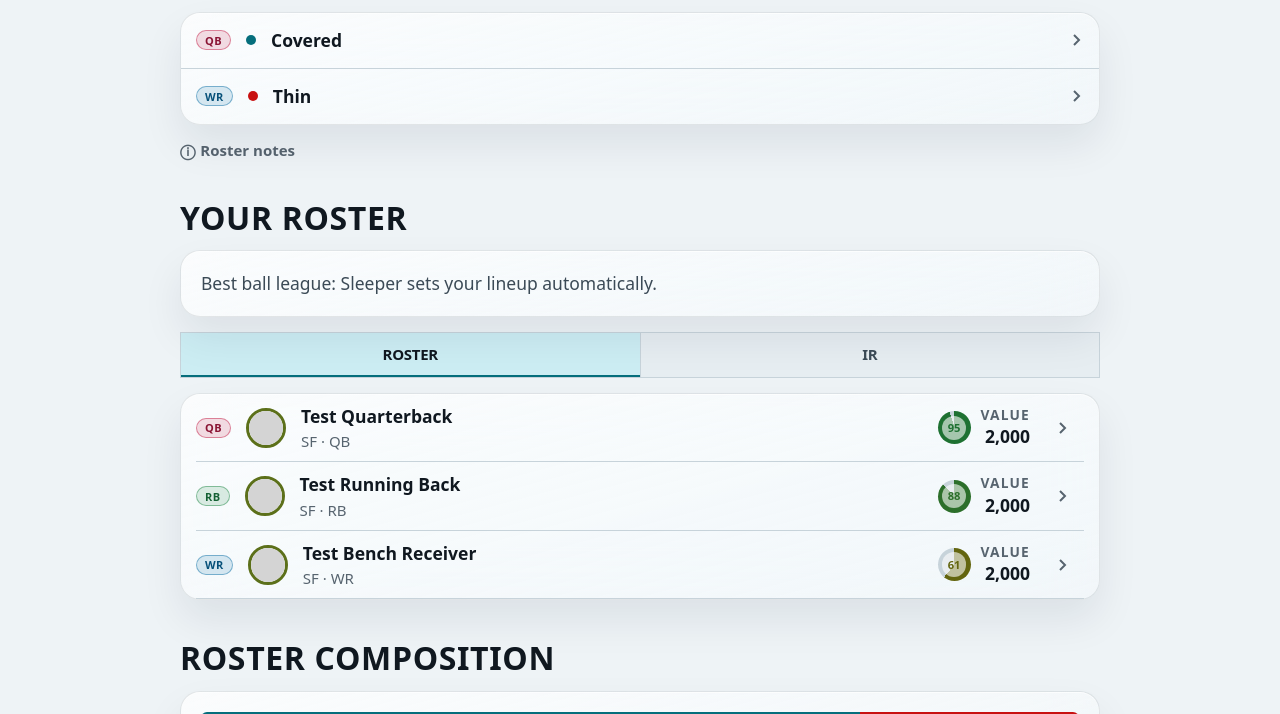
Test: MyTeamContent best ball › replaces the suggested Starters/Bench split with one roster list and the best ball note
(page scrolled)
expect the text "Best ball league: Sleeper sets your lineup automatically." is shown: met, box x1=180 y1=250 x2=1100 y2=317
expect the tab "Roster" is shown: met, box x1=181 y1=333 x2=640 y2=377
Click the tab "IR": click(869, 355) x1=640 y1=333 x2=1099 y2=377
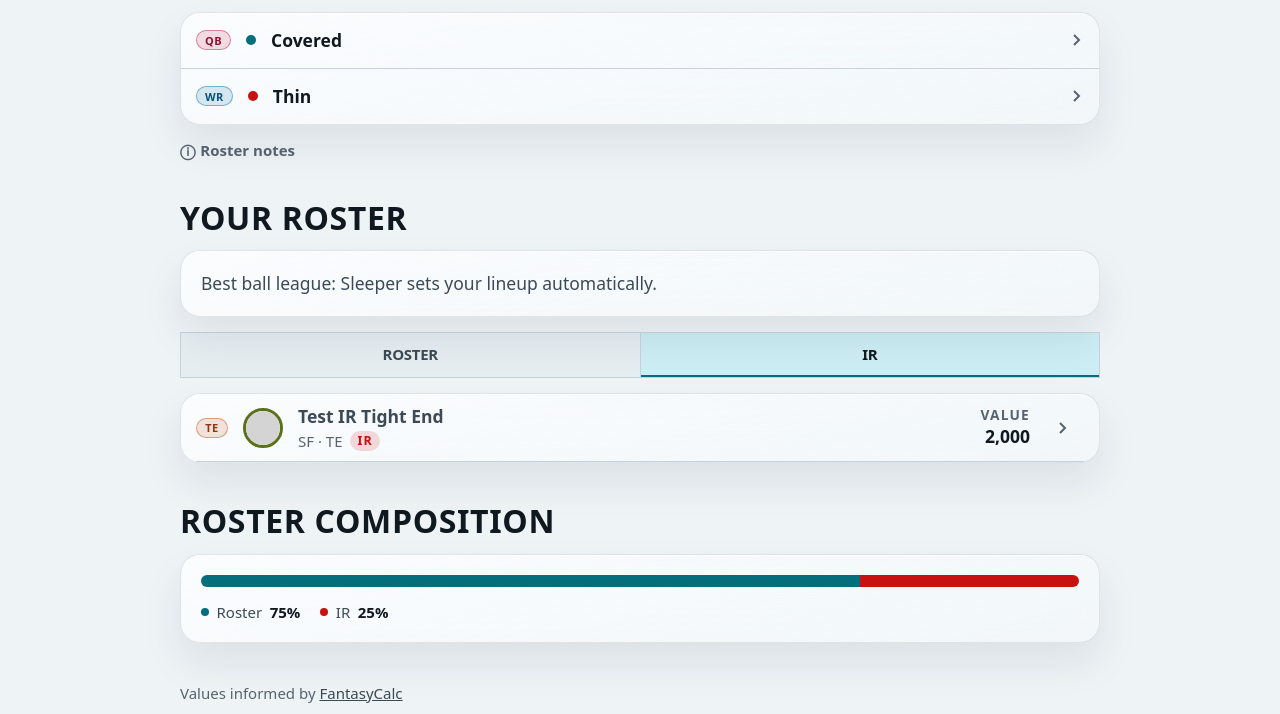
expect the text "Test IR Tight End" is shown: met, box x1=298 y1=404 x2=444 y2=429
